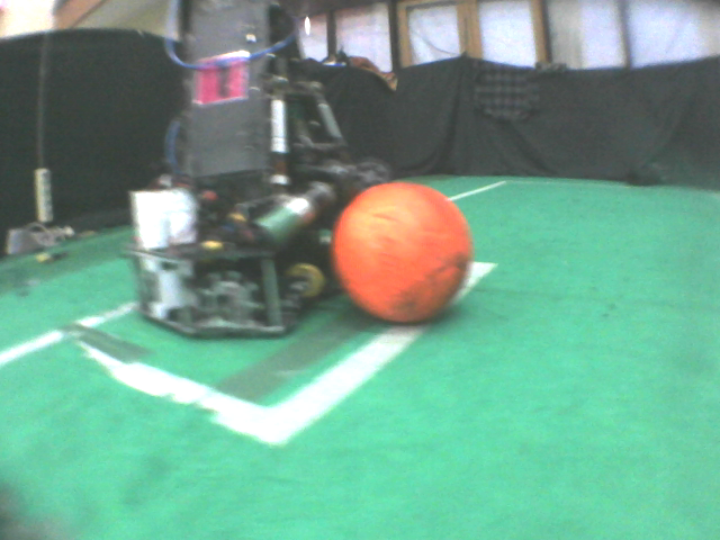bola: (325, 177, 480, 333)
